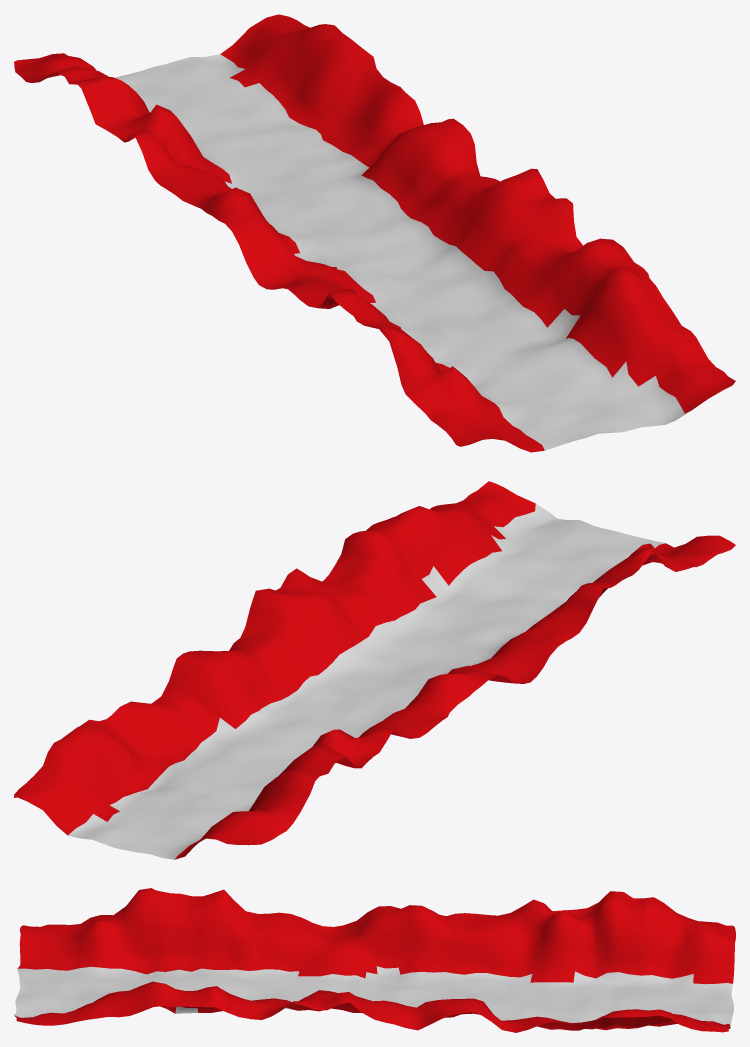
The model's file is KnightBossLevel6.fbx.
The picture shows the model from 3 angles, top to bottom: view 1: azimuth 30°, elevation 25°; view 2: azimuth 150°, elevation 25°; view 3: azimuth 270°, elevation 25°; orthographic projection. The views are drawn at different scales.
Parts seen in each view (by area): view 1: Plane.005; view 2: Plane.005; view 3: Plane.005.
Part boxes in pixels (x1,y1,x2,y2): Plane.005: [14, 14, 735, 452]; Plane.005: [14, 481, 735, 859]; Plane.005: [14, 888, 735, 1032].
Bounding box in the file's own units: 42344 × 11579 × 116611.
